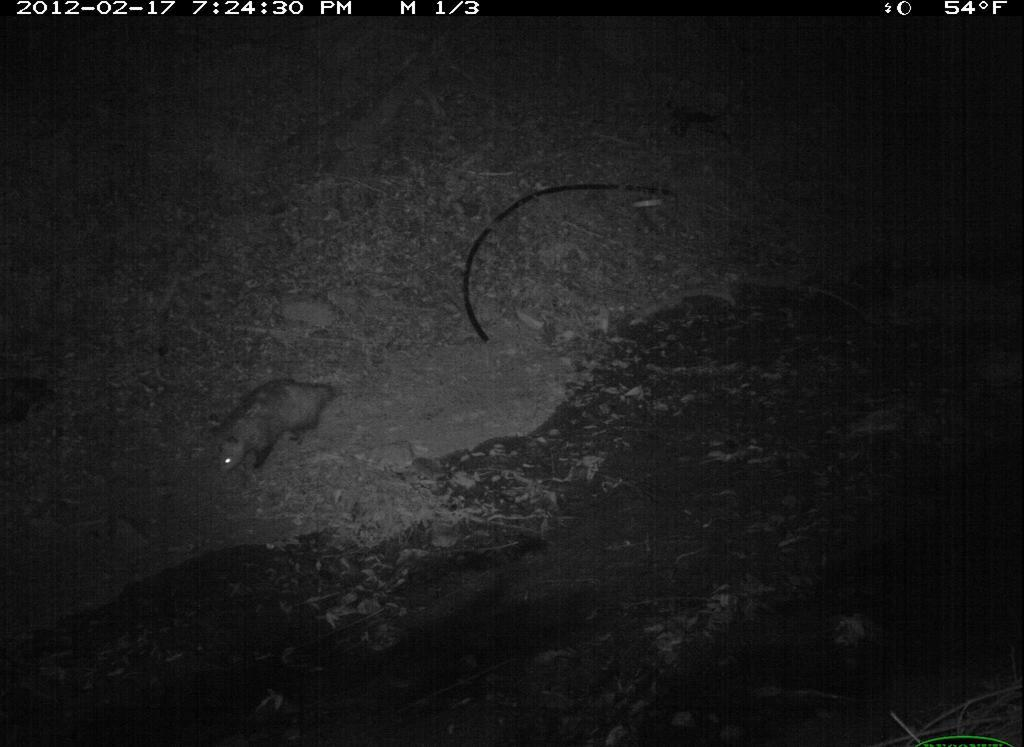opossum: (199, 376, 349, 486)
